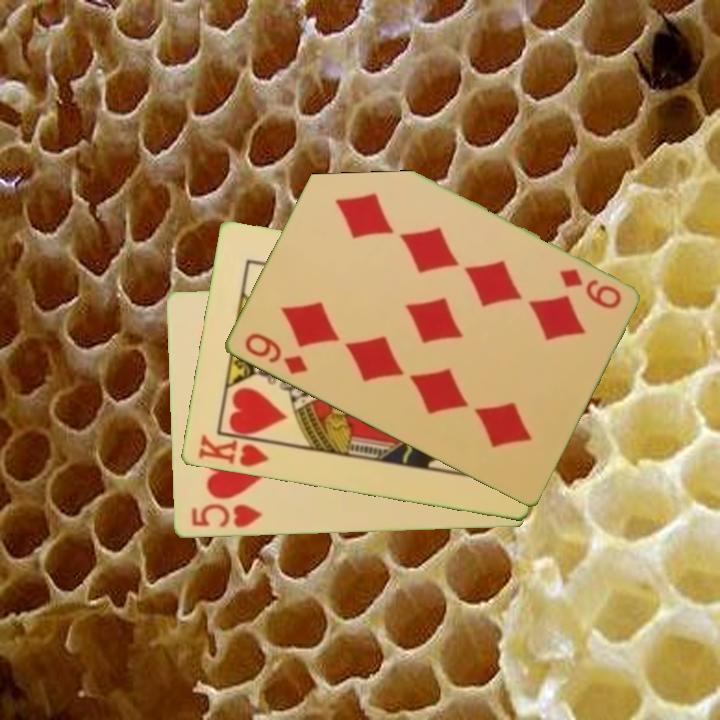5h: (188, 500, 265, 531)
9d: (240, 329, 311, 378), (555, 265, 624, 313)
Kh: (194, 431, 278, 471)
